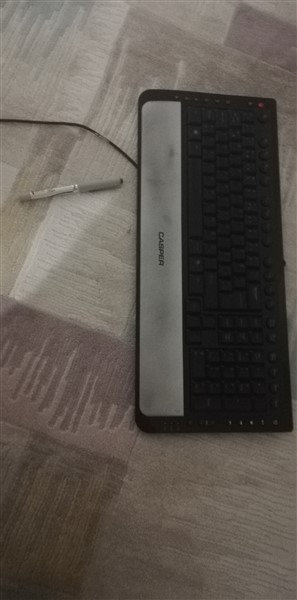klavye: (131, 86, 297, 438)
pilot kalem: (17, 176, 123, 203)
